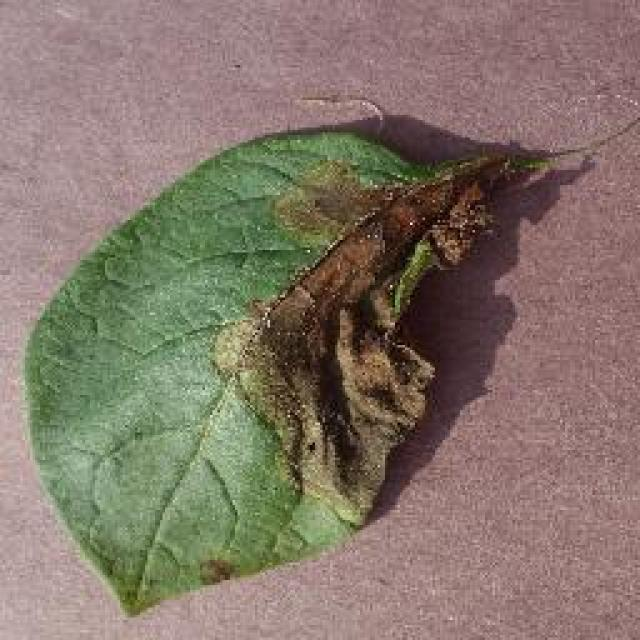Potato___Late_blight: (20, 127, 570, 621)
